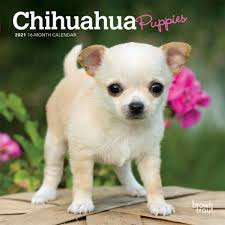Chihuahua: (35, 40, 189, 217)
